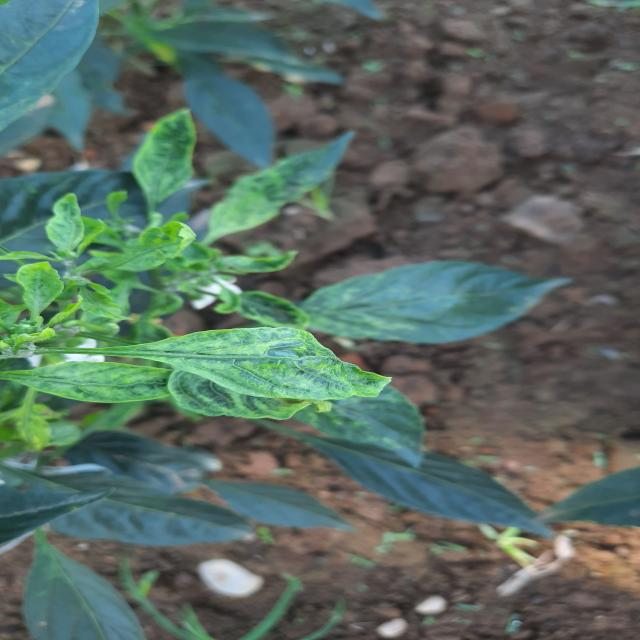thrips: (97, 320, 398, 406), (3, 361, 185, 403)
